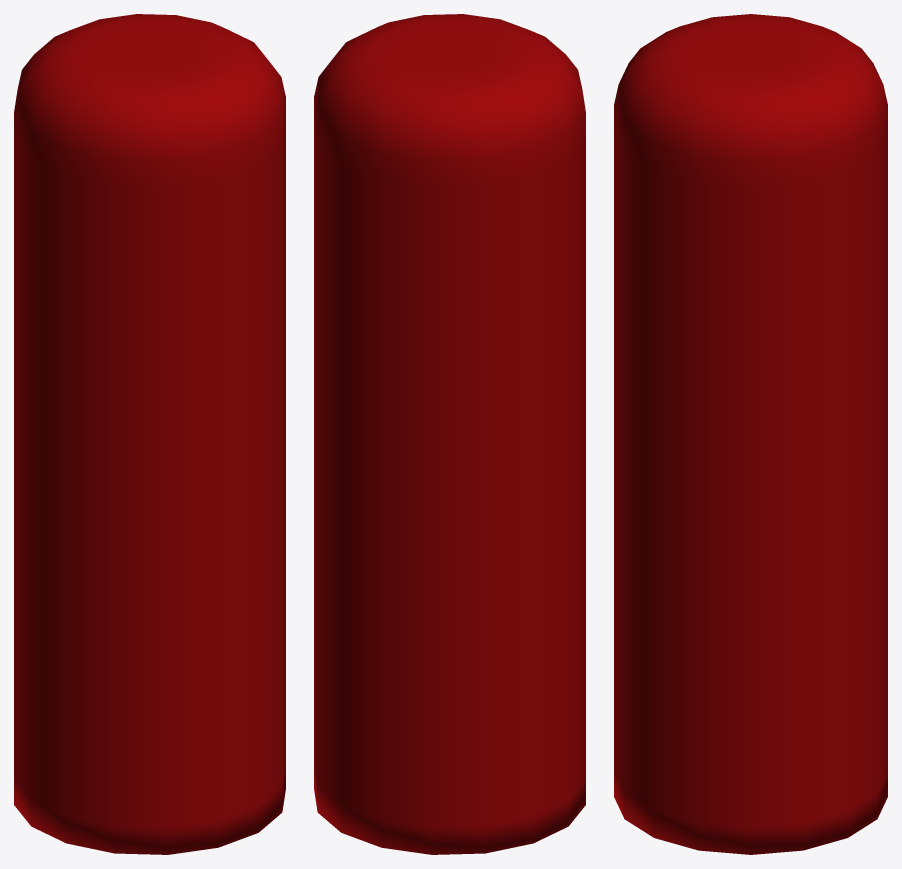
The model's file is PunchingBag.fbx.
The picture shows the model from 3 angles, left to right: view 1: azimuth 30°, elevation 25°; view 2: azimuth 150°, elevation 25°; view 3: azimuth 270°, elevation 25°; orthographic projection.
Visible parts, largest first — view 1: Cylinder; view 2: Cylinder; view 3: Cylinder.
Boxes of the visible parts, left/top/right/bottom form: Cylinder: left=14, top=14, right=285, bottom=854; Cylinder: left=314, top=14, right=585, bottom=854; Cylinder: left=614, top=14, right=887, bottom=854.
Size of the model in its own units: 0.4 by 1.2 by 0.4.
